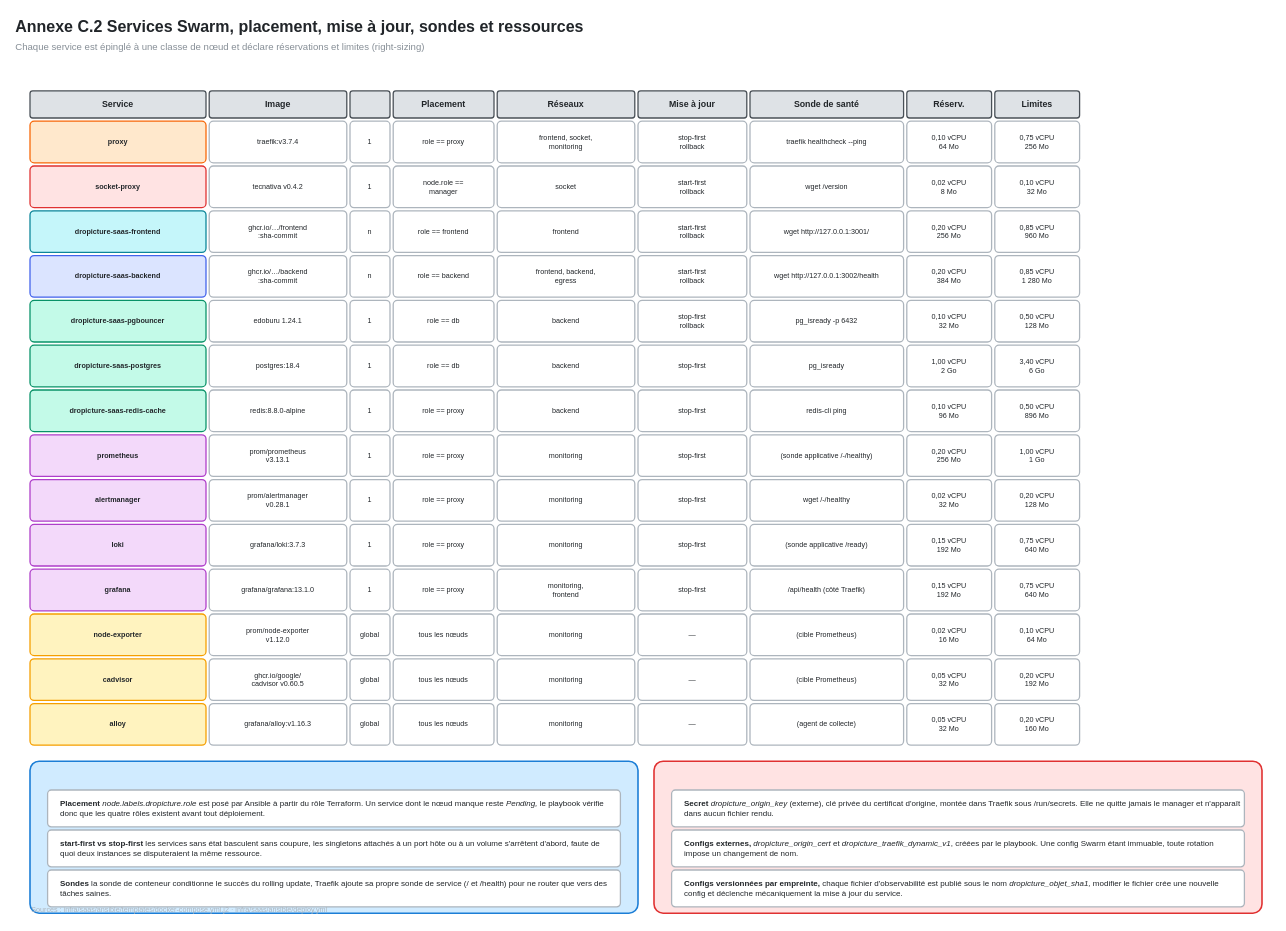
Some shapes in this 1286 by 931 pixel diagram are drawn without their labels. The shapes that lost their labels are listed below. From the top down, each one's box as (x1, y1, x2, y2) in pixels, then its label:
(349, 90, 390, 118): Rép.
(29, 760, 638, 914): LECTURE
(653, 760, 1262, 914): CONFIGS ET SECRETS SWARM
